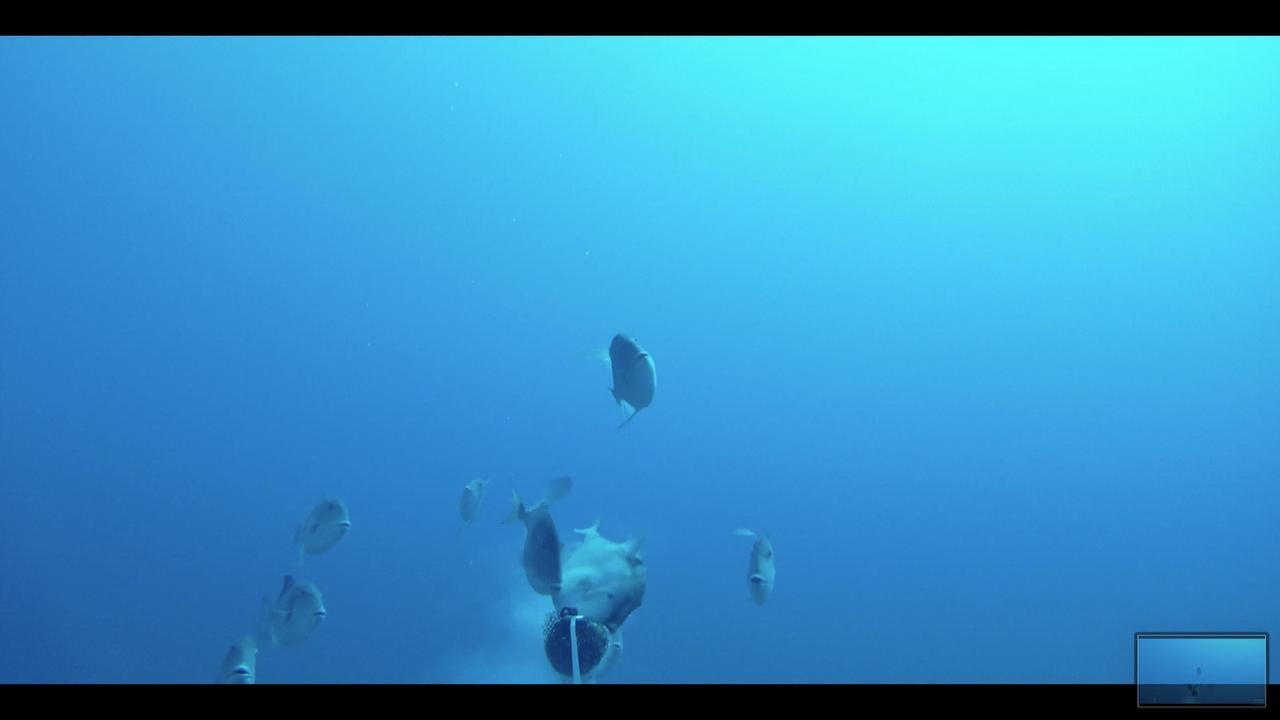balistes: (548, 506, 643, 634), (497, 461, 573, 598), (582, 326, 660, 437), (254, 570, 330, 652), (283, 486, 355, 566), (731, 520, 782, 608)
